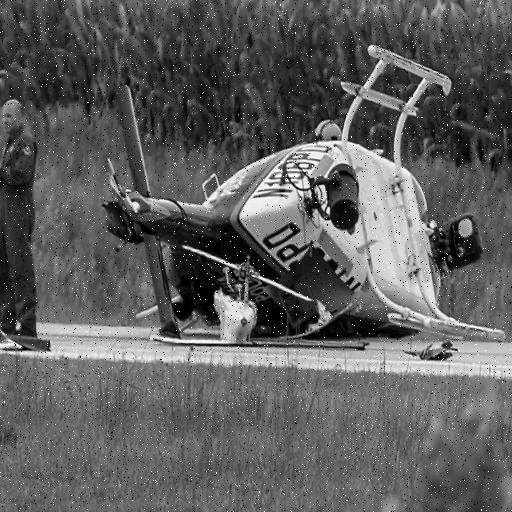helicopter: (96, 42, 512, 353)
